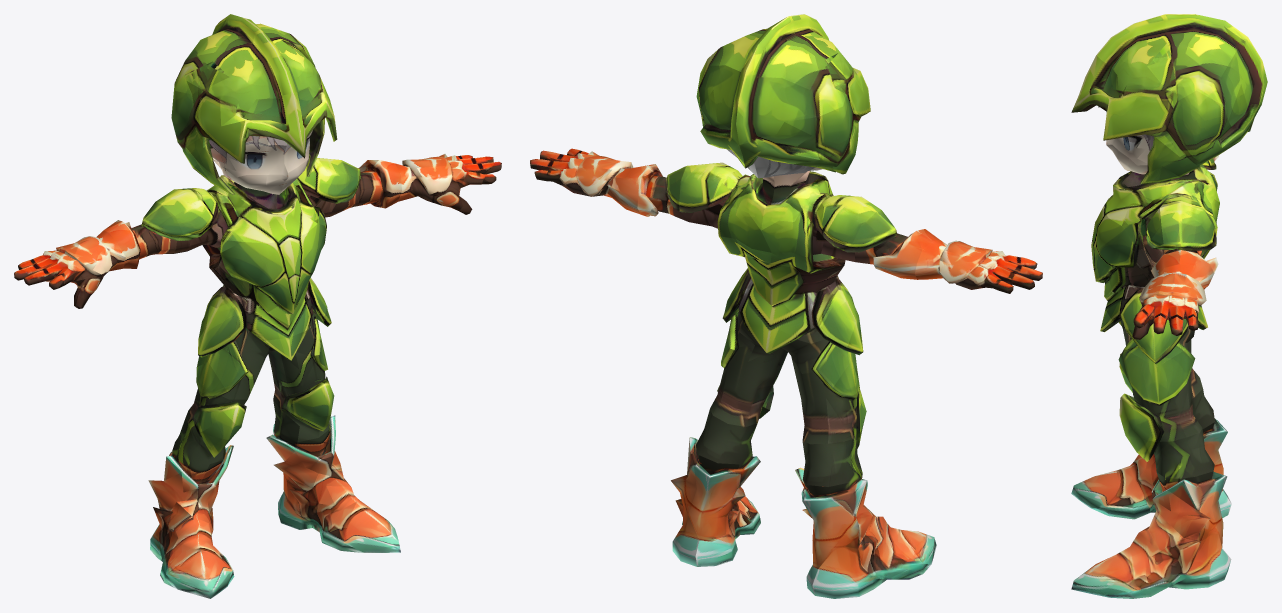
Rendered from shell_meshy.glb.
3 renders of one model, left to right at view 1: azimuth 30°, elevation 25°; view 2: azimuth 150°, elevation 25°; view 3: azimuth 270°, elevation 25°, orthographic. The views are drawn at different scales.
Bounding box in the file's own units: 1.95 × 2 × 0.6736.
1 material, 1 textured.
